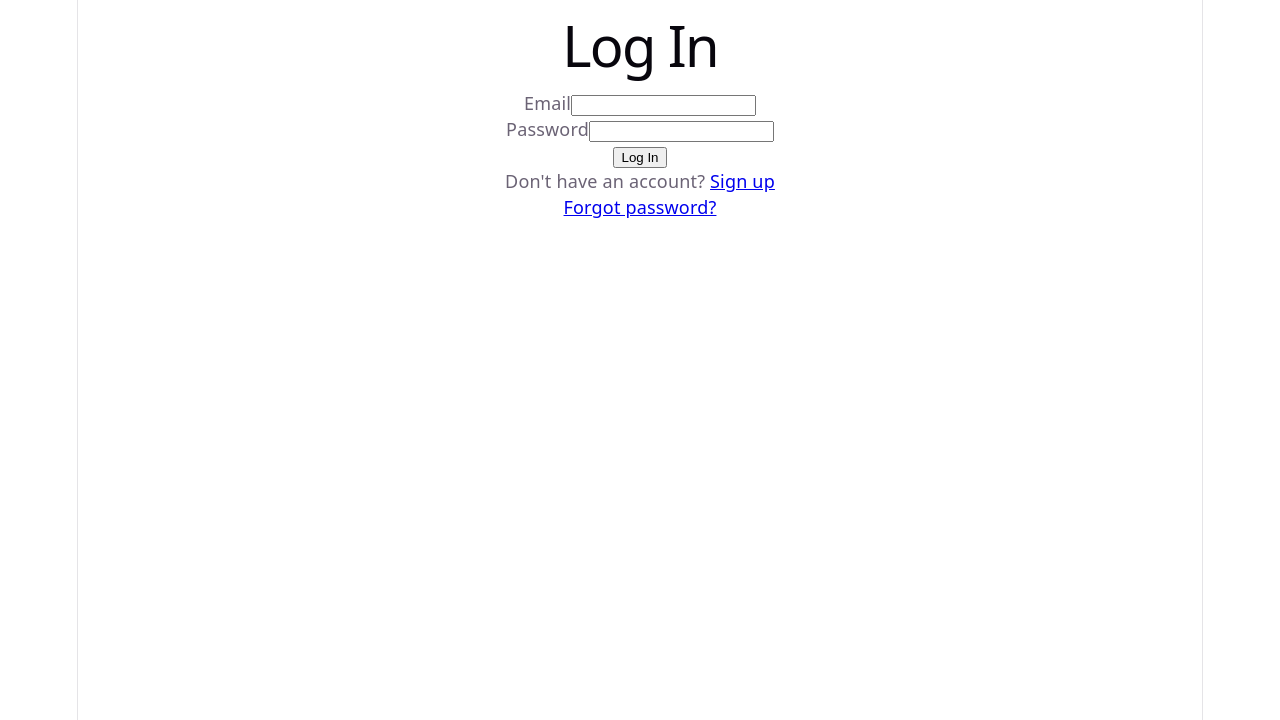
Test: LoginPage › shows an error message on failed login
In the field labelled "Email": (664, 106) [571,95,756,116], type "user@example.com"
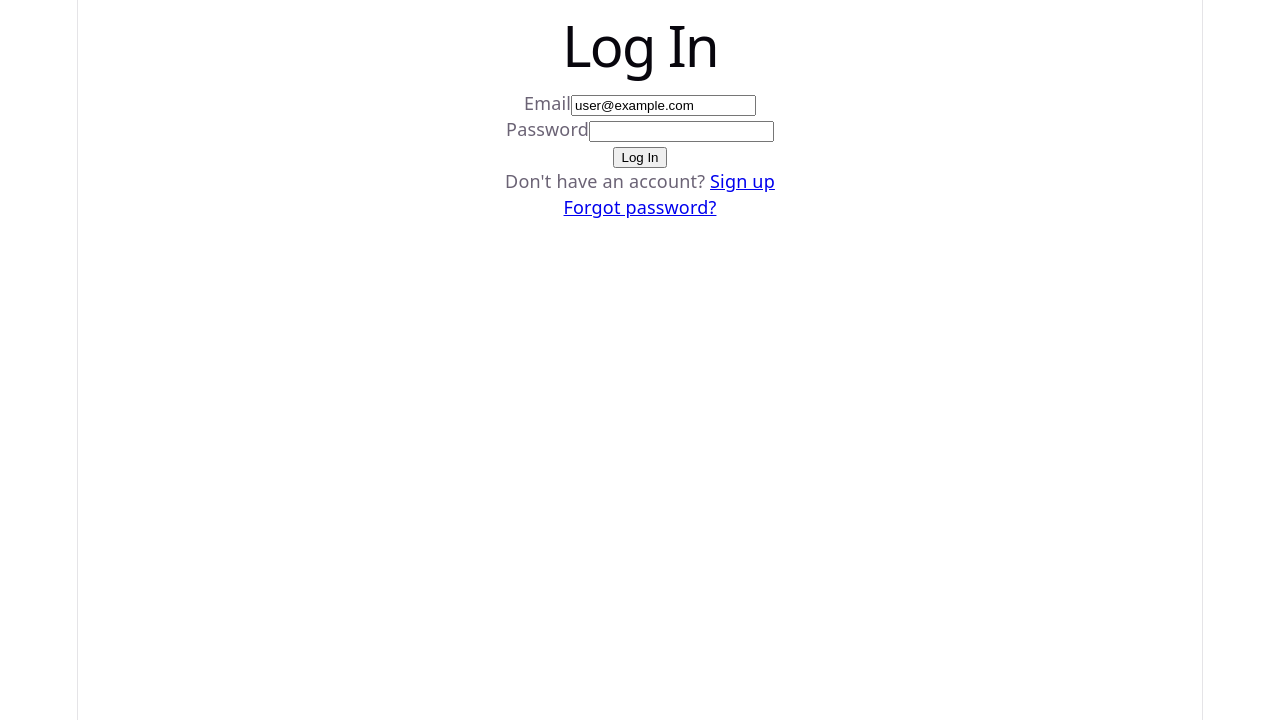
In the password field labelled "Password": (681, 132) [589,121,774,142], type "wrong"
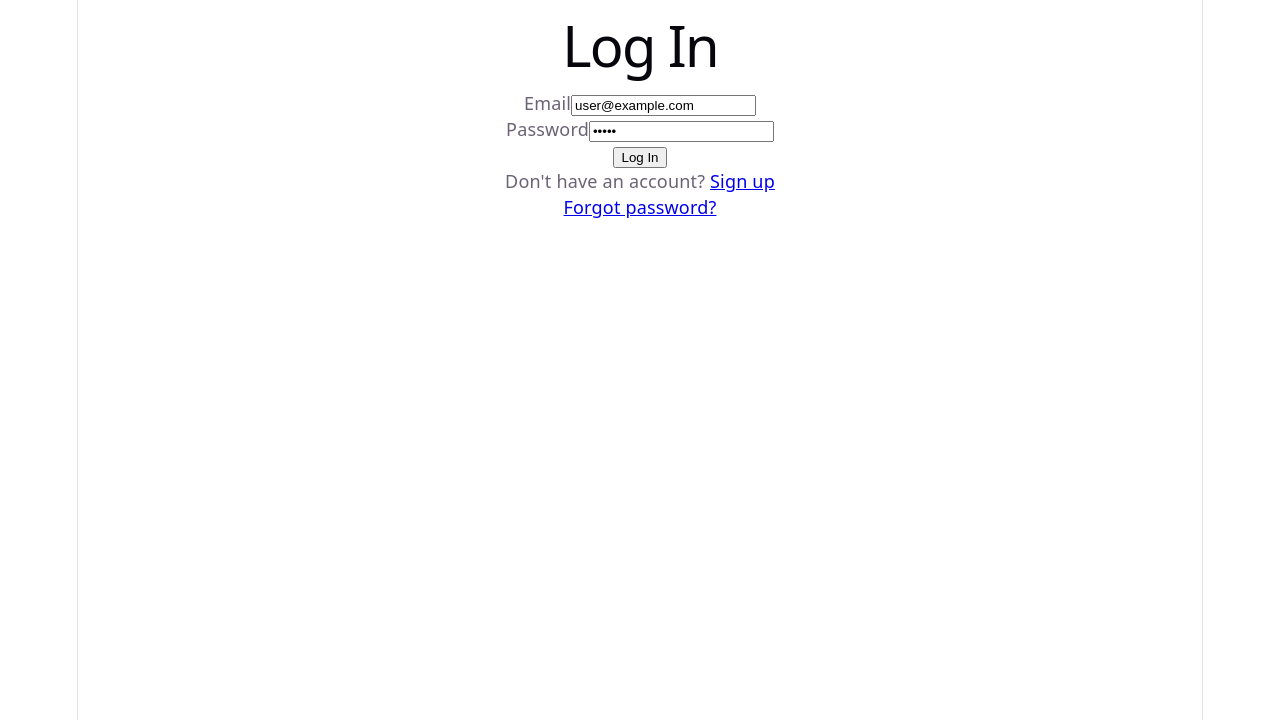
Click the button "Log In": (640, 158) [614,147,667,168]
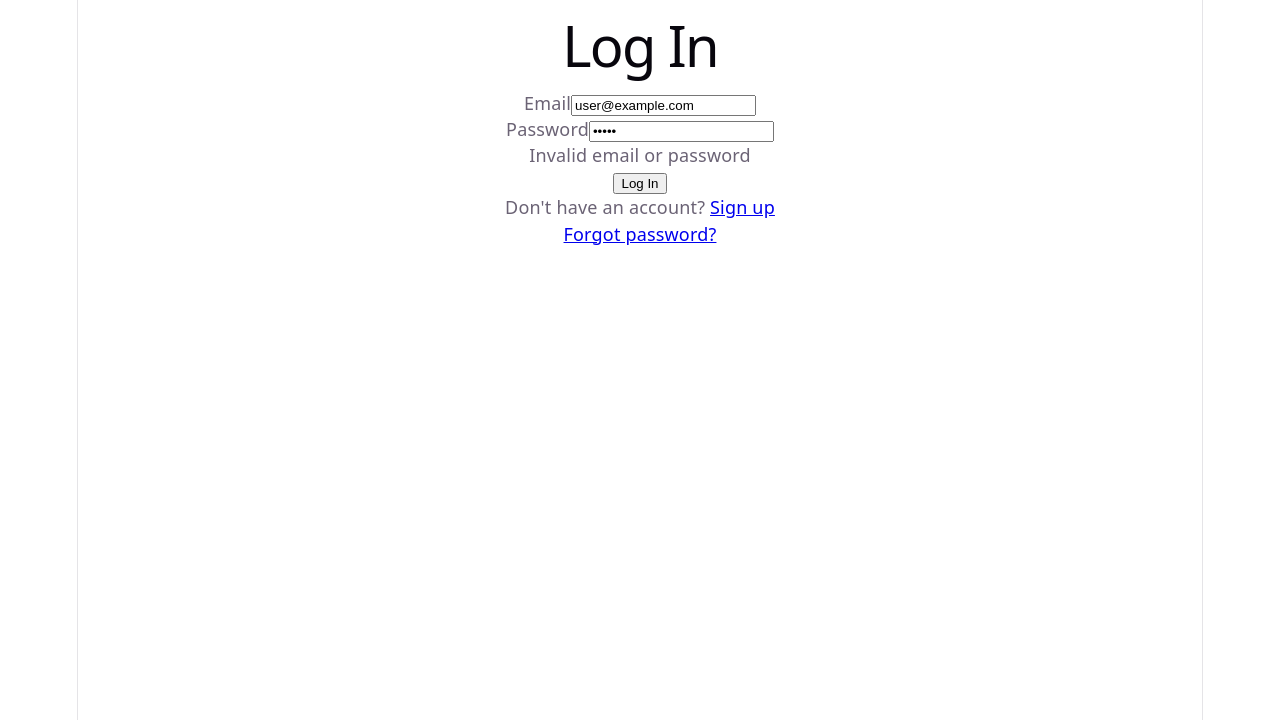
Now the message "Invalid email or password" is shown, box [529,143,751,167]
